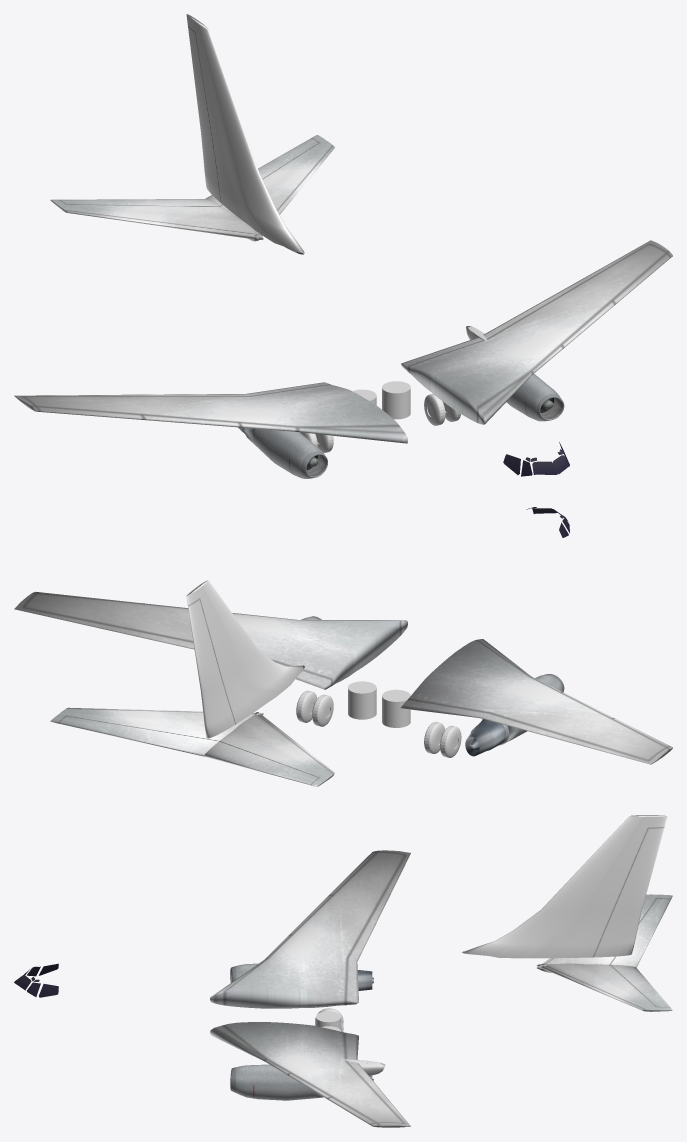
3 renders of one model, top to bottom at view 1: azimuth 30°, elevation 25°; view 2: azimuth 150°, elevation 25°; view 3: azimuth 270°, elevation 25°, orthographic. The views are drawn at different scales.
Parts seen in each view (by area): view 1: Cylinder.002, Cylinder.003, Cylinder.004, Cylinder.001, Cylinder.006, Cylinder.005, Cylinder.008; view 2: Cylinder.002, Cylinder.004, Cylinder.003, Cylinder.006, Cylinder.001, Cylinder.008, Cylinder.007; view 3: Cylinder.002, Cylinder.003, Cylinder.004, Cylinder.001, Cylinder.005.
Boxes of the visible parts, bbox=[...] form: Cylinder.002: bbox=[14, 240, 672, 443]; Cylinder.003: bbox=[186, 14, 304, 254]; Cylinder.004: bbox=[50, 134, 334, 241]; Cylinder.001: bbox=[238, 374, 564, 478]; Cylinder.006: bbox=[352, 381, 410, 419]; Cylinder.005: bbox=[503, 442, 569, 476]; Cylinder.008: bbox=[424, 394, 460, 425]; Cylinder.002: bbox=[14, 591, 672, 764]; Cylinder.004: bbox=[50, 707, 334, 786]; Cylinder.003: bbox=[186, 580, 304, 738]; Cylinder.006: bbox=[348, 681, 410, 727]; Cylinder.001: bbox=[301, 616, 564, 756]; Cylinder.008: bbox=[296, 690, 333, 726]; Cylinder.007: bbox=[424, 722, 461, 757]; Cylinder.002: bbox=[210, 850, 410, 1127]; Cylinder.003: bbox=[462, 815, 667, 958]; Cylinder.004: bbox=[536, 894, 672, 1011]; Cylinder.001: bbox=[230, 963, 373, 1100]; Cylinder.005: bbox=[14, 963, 58, 997].
Bounding box in the file's own units: 2.88 × 1.22 × 2.93.
5 materials, 5 textured.
